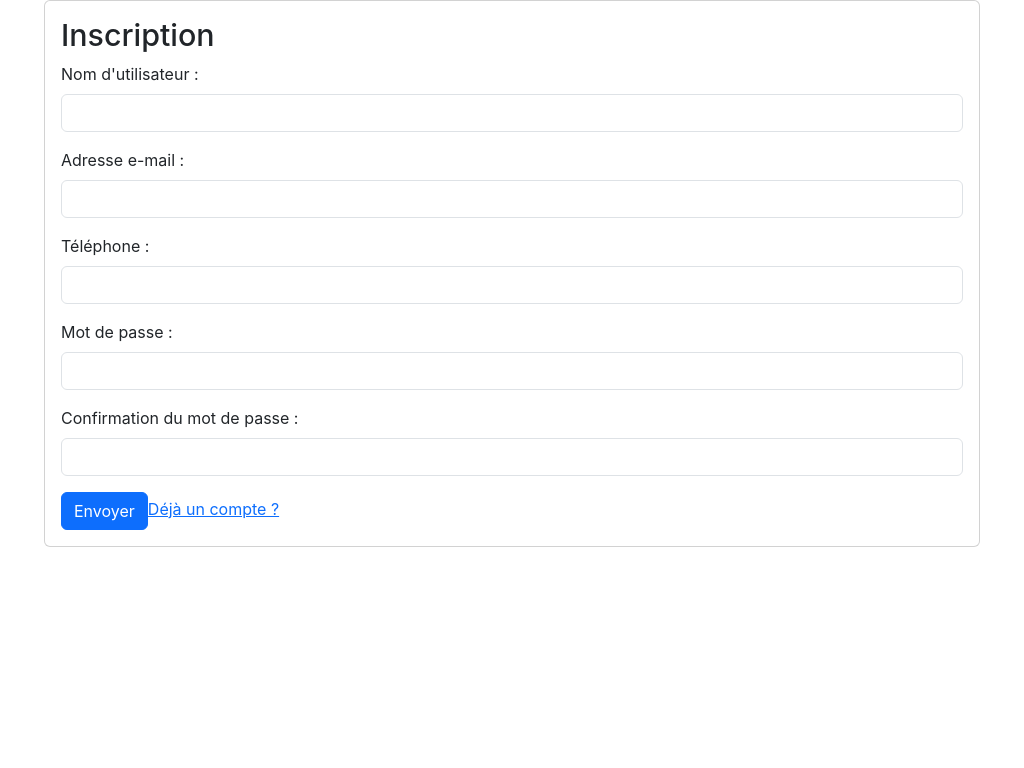
it: Register test › Register › should input confirmPassword is correctly filled
Type "admin" into the field named "username" at (512, 113), box [61,94,963,132]
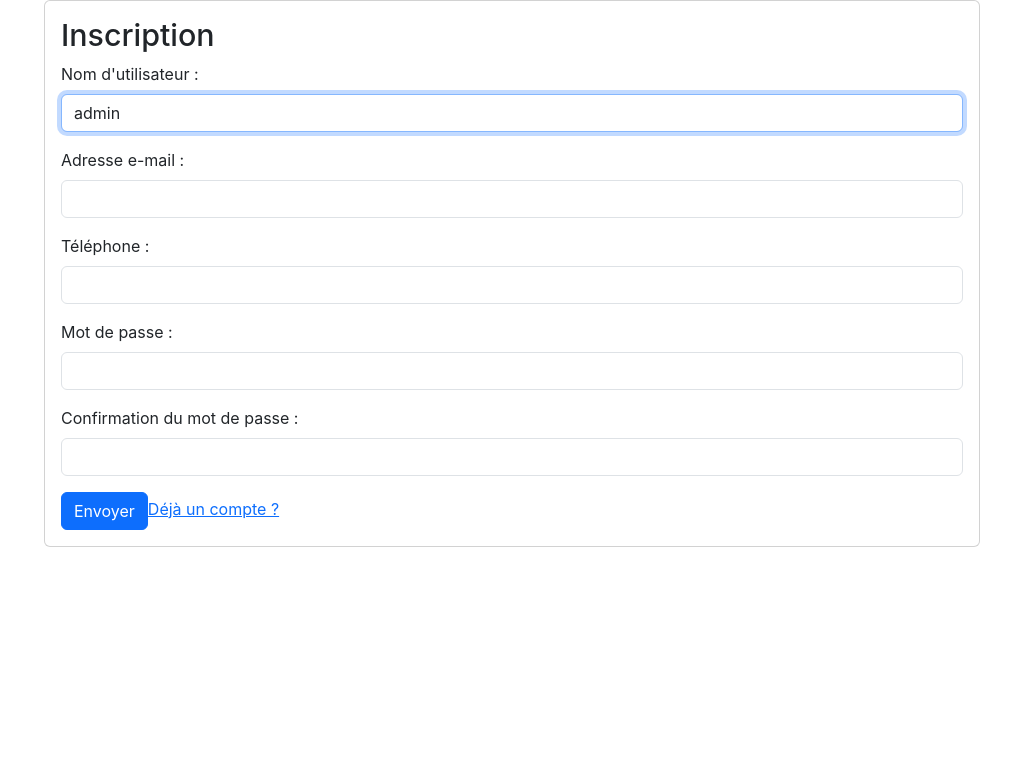
Type "admin@admin.com" into the field named "email" at (512, 199), box [61,180,963,218]
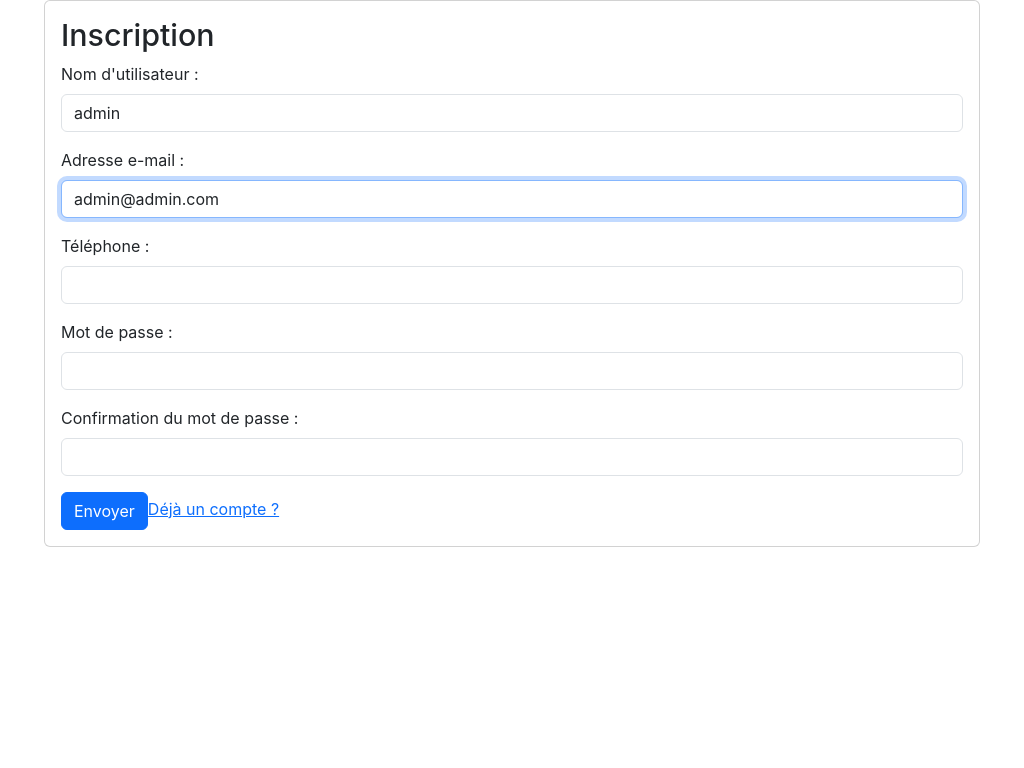
Type "0401020304" into the field named "tel" at (512, 285), box [61,266,963,304]
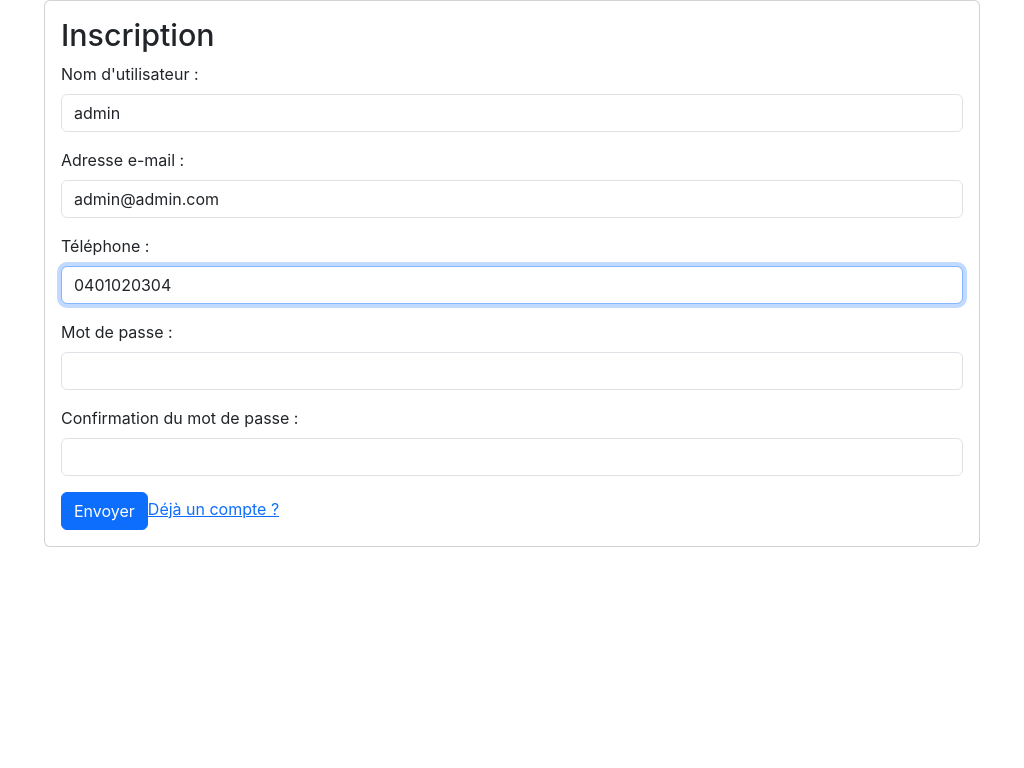
Type "Admin12!" into the field named "password" at (512, 371), box [61,352,963,390]
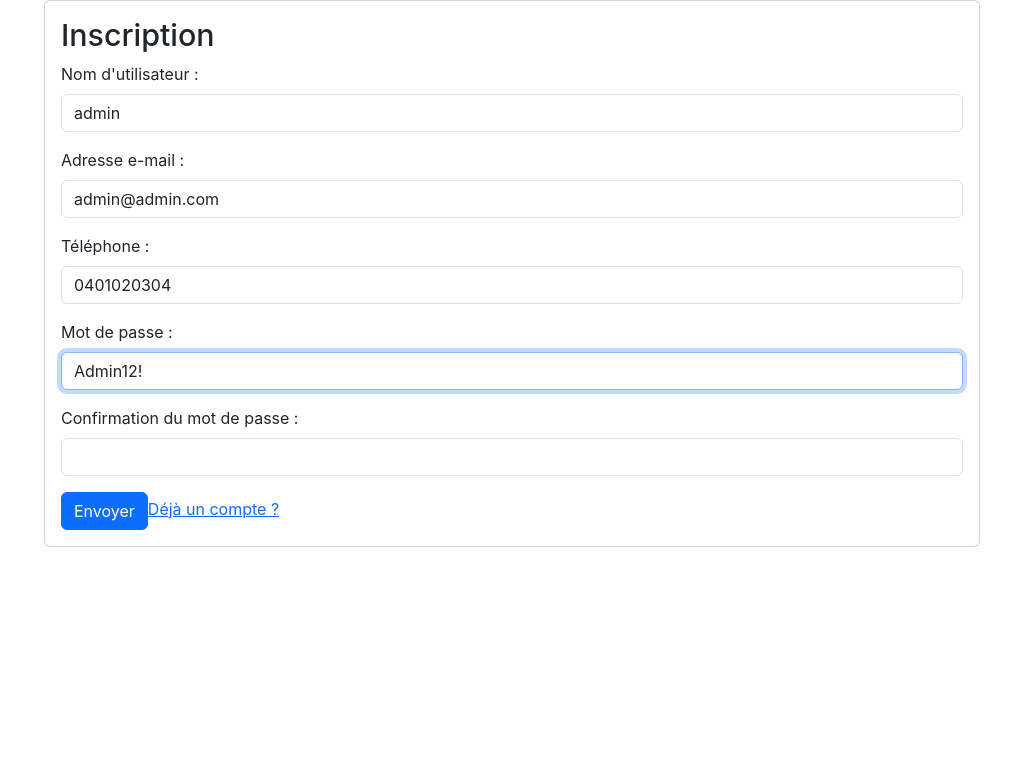
Type "admin12!" into the field named "confirmPassword" at (512, 457), box [61,438,963,476]
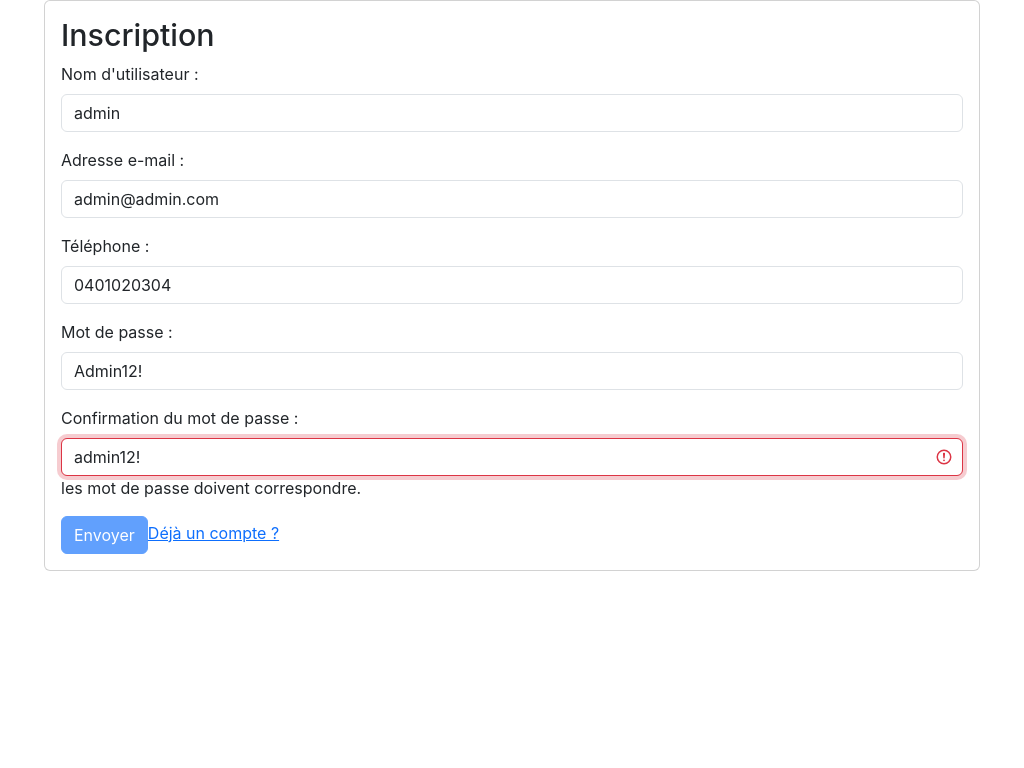
Now the text "les mot de passe doivent correspondre." is shown, box [61,478,361,498]
